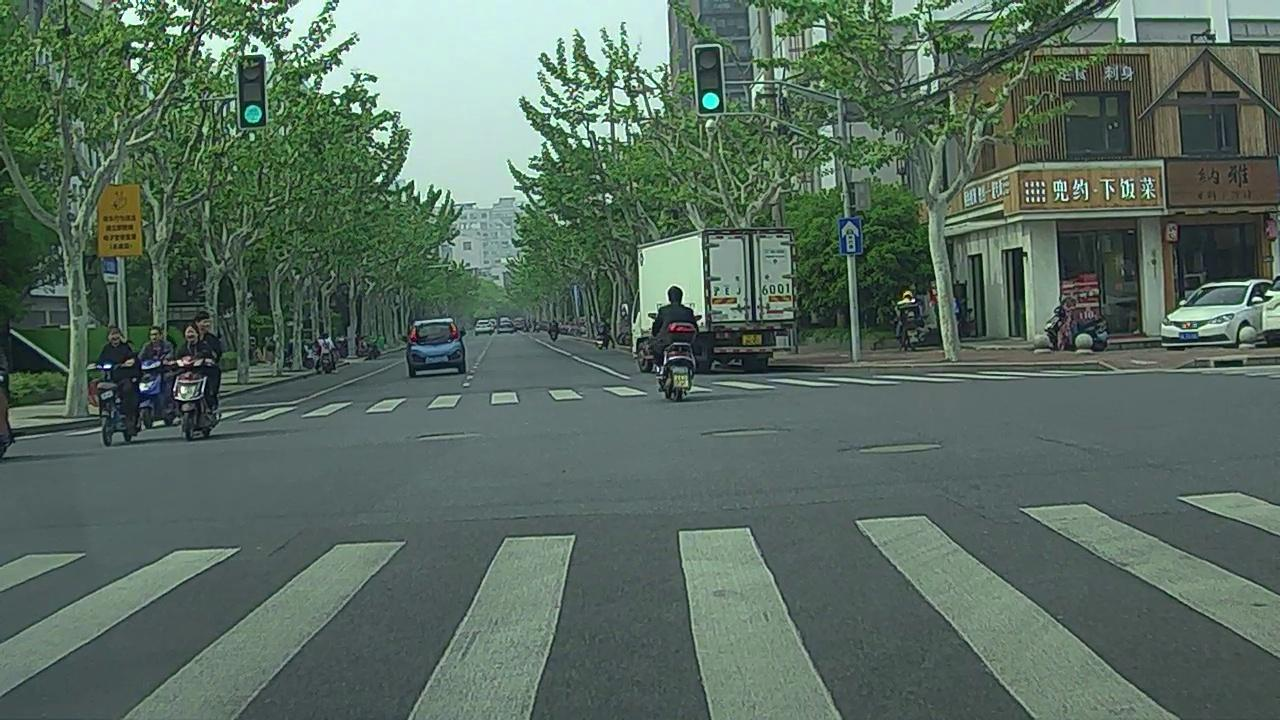traffic_light: (236, 56, 266, 127), (696, 48, 725, 115)
